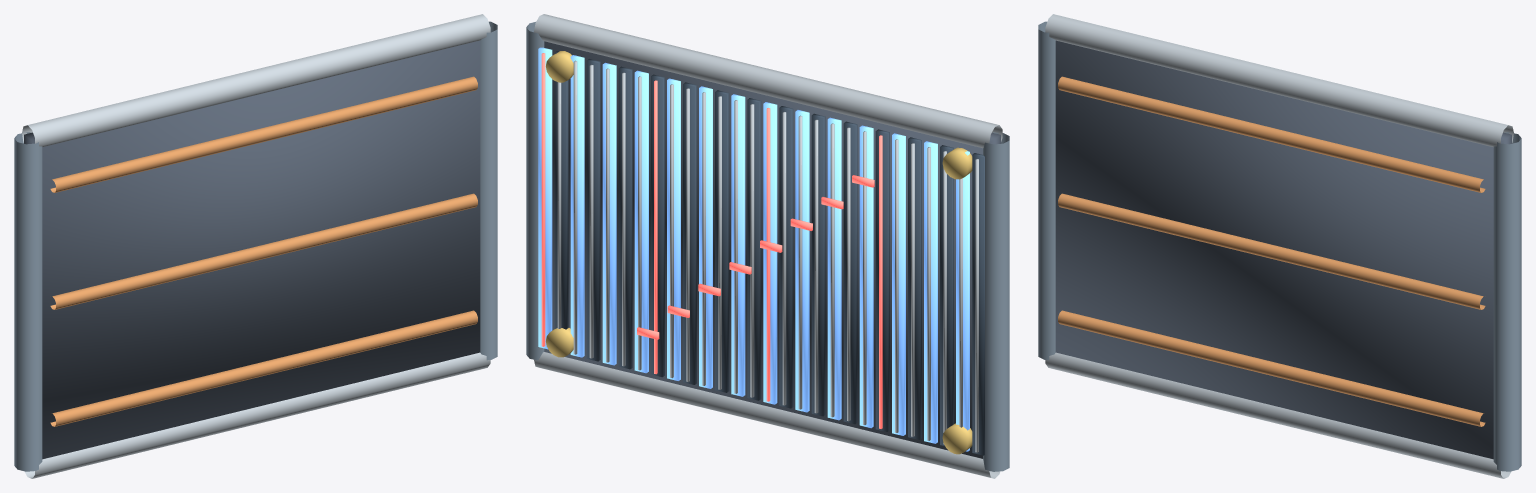
Rendered from L86_46_FailedThermalRadiatorModule_Fitted.fbx.
The picture shows the model from 3 angles, left to right: view 1: azimuth 30°, elevation 25°; view 2: azimuth 150°, elevation 25°; view 3: azimuth 330°, elevation 25°; orthographic projection.
Visible parts, largest first — view 1: L86_FailedThermalRadiatorModule_ANIM_FAILED_RADIATOR_RELEASE (×4); view 2: L86_FailedThermalRadiatorModule_ANIM_FAILED_RADIATOR_RELEASE (×7); view 3: L86_FailedThermalRadiatorModule_ANIM_FAILED_RADIATOR_RELEASE (×4).
Part boxes in pixels (x1,y1,x2,y2): L86_FailedThermalRadiatorModule_ANIM_FAILED_RADIATOR_RELEASE (×4): (14, 14, 497, 478); L86_FailedThermalRadiatorModule_ANIM_FAILED_RADIATOR_RELEASE (×7): (526, 14, 1009, 478); L86_FailedThermalRadiatorModule_ANIM_FAILED_RADIATOR_RELEASE (×4): (1038, 14, 1521, 478).
Size of the model in its own units: 33 by 23.11 by 2.69.
